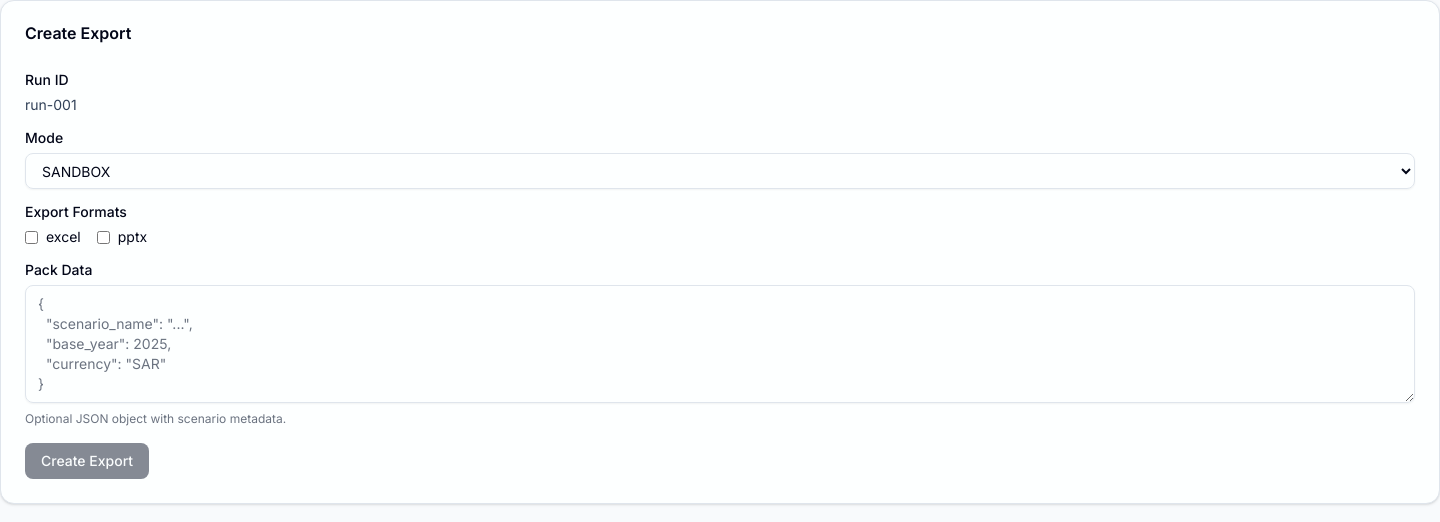
Test: ExportForm › shows JSON validation error for invalid pack_data
Click the checkbox labelled "excel": point(32, 237) [25,230,38,244]
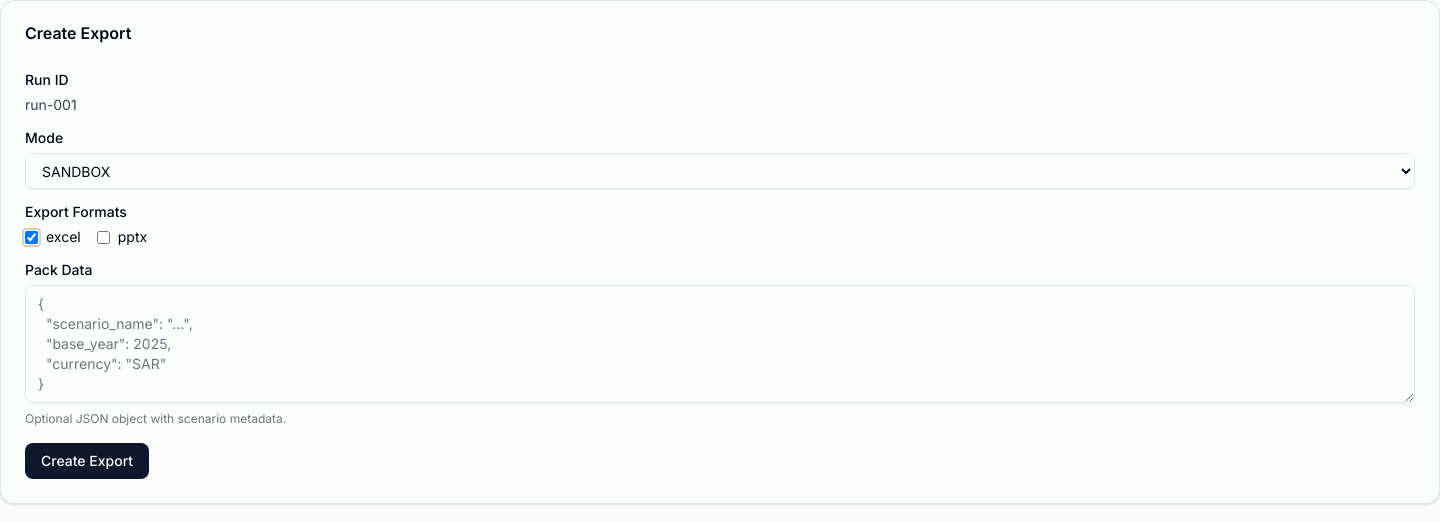
Replace the text in the text box labelled "Pack Data" with "not valid json": point(720, 344) [25,285,1415,403]
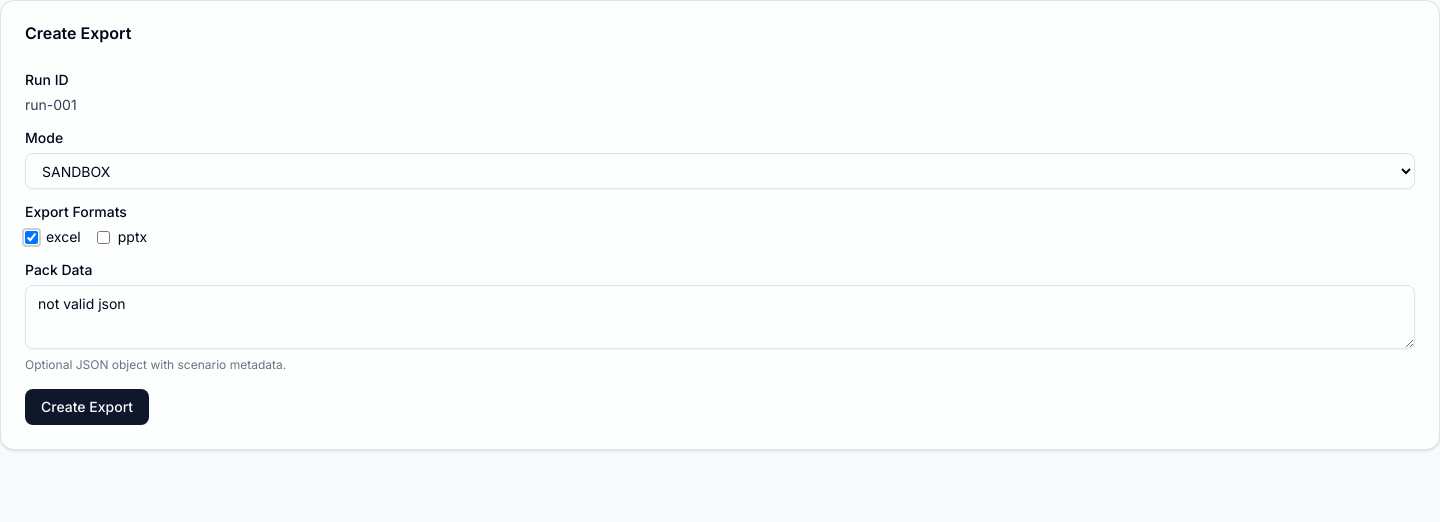
Click the button "Create Export": point(87, 407) [25,389,149,425]
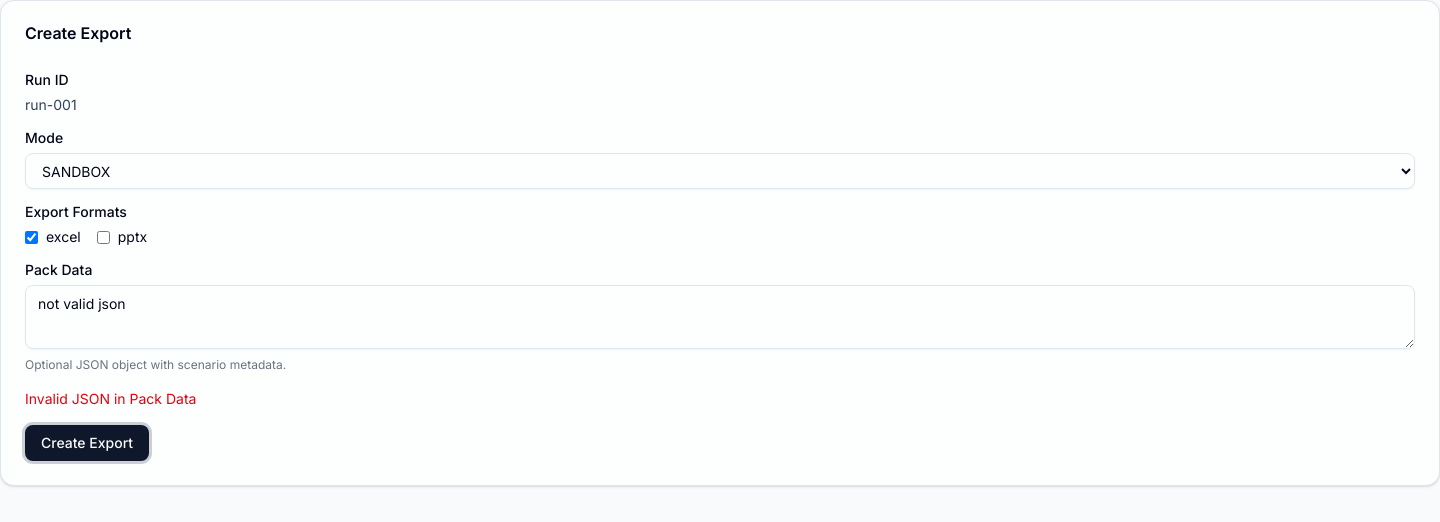
Result: the text "Invalid JSON in Pack Data" is shown at [25,390,196,407]
